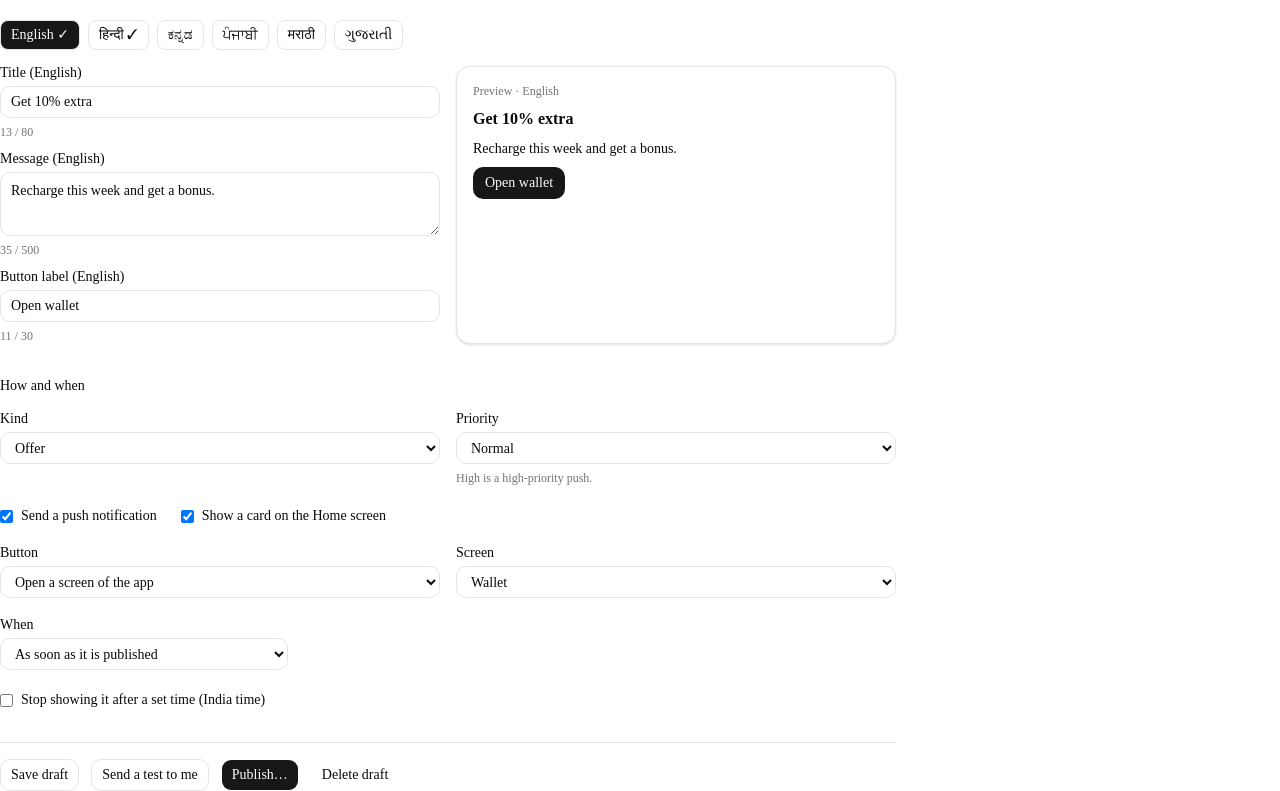
Test: a draft › repeats the server's warning about a shaky audience in the confirmation
(page scrolled)
Click the button "Publish…" at (260,775), box [221,759,299,790]
(page scrolled)
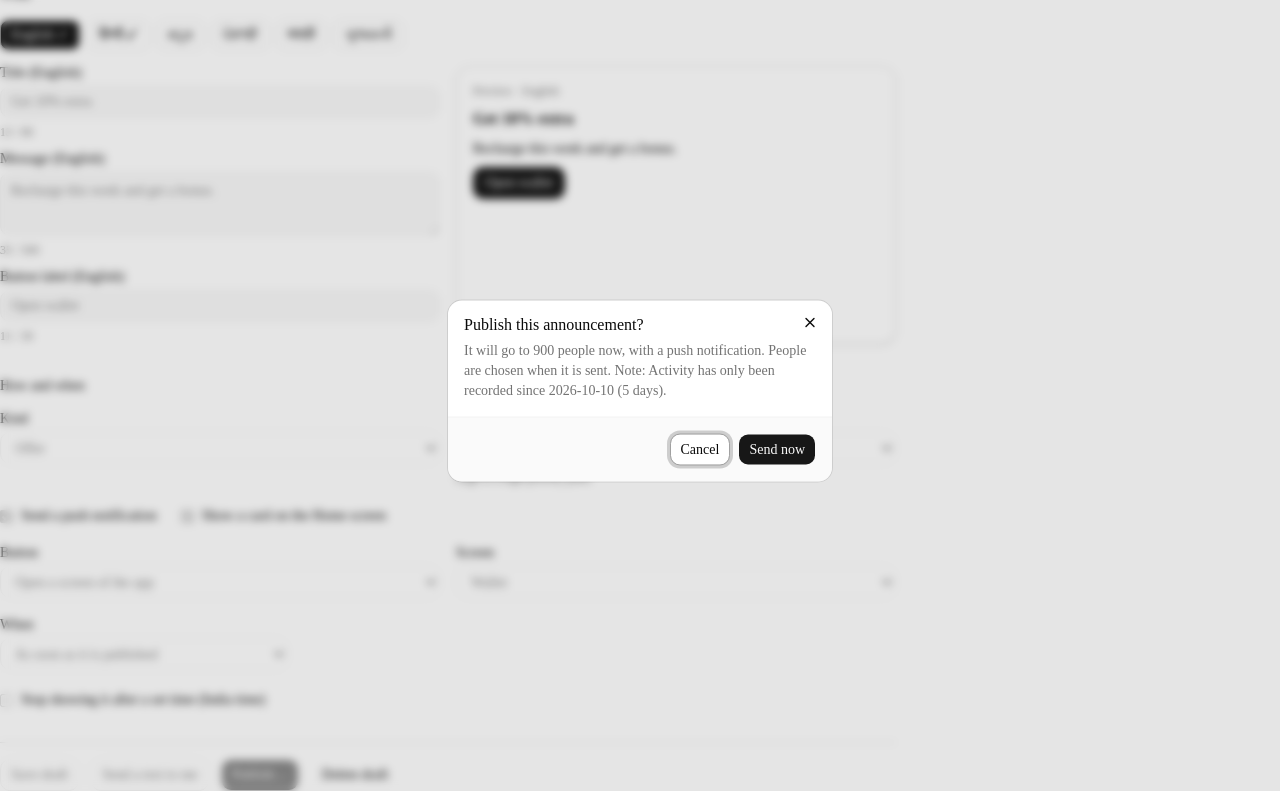
Now the text "Note: Activity has only been recorded since 2026-10-10" is shown, box [464,342,806,398]
